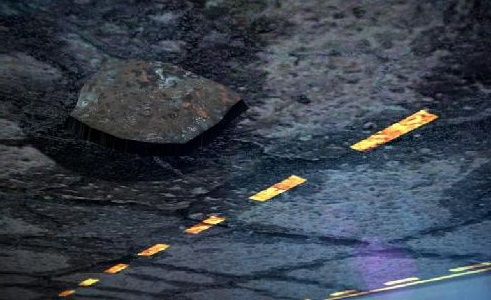pothole: (63, 54, 251, 157)
